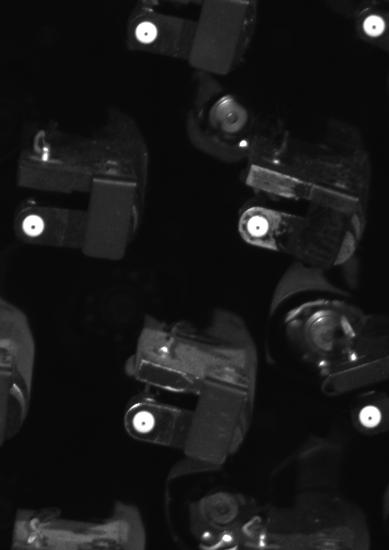fiber: (354, 400, 384, 436), (130, 20, 165, 49), (241, 212, 273, 242), (129, 408, 161, 438), (361, 10, 388, 44), (18, 213, 52, 240)
